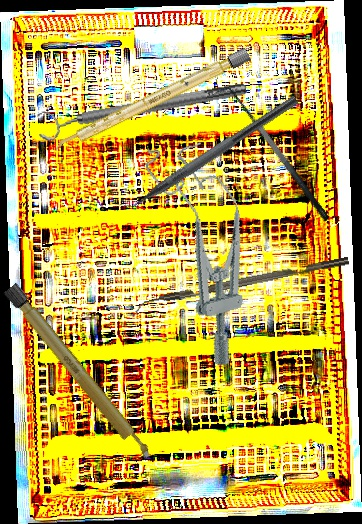Chopper: (110, 83, 299, 222), (132, 256, 352, 317)
Fixation Ring: (34, 73, 250, 144)
Scalpel Handle: (3, 282, 155, 465), (51, 47, 252, 155)
Spatula Surgical: (216, 79, 331, 231)
Speculum: (141, 130, 277, 372)
